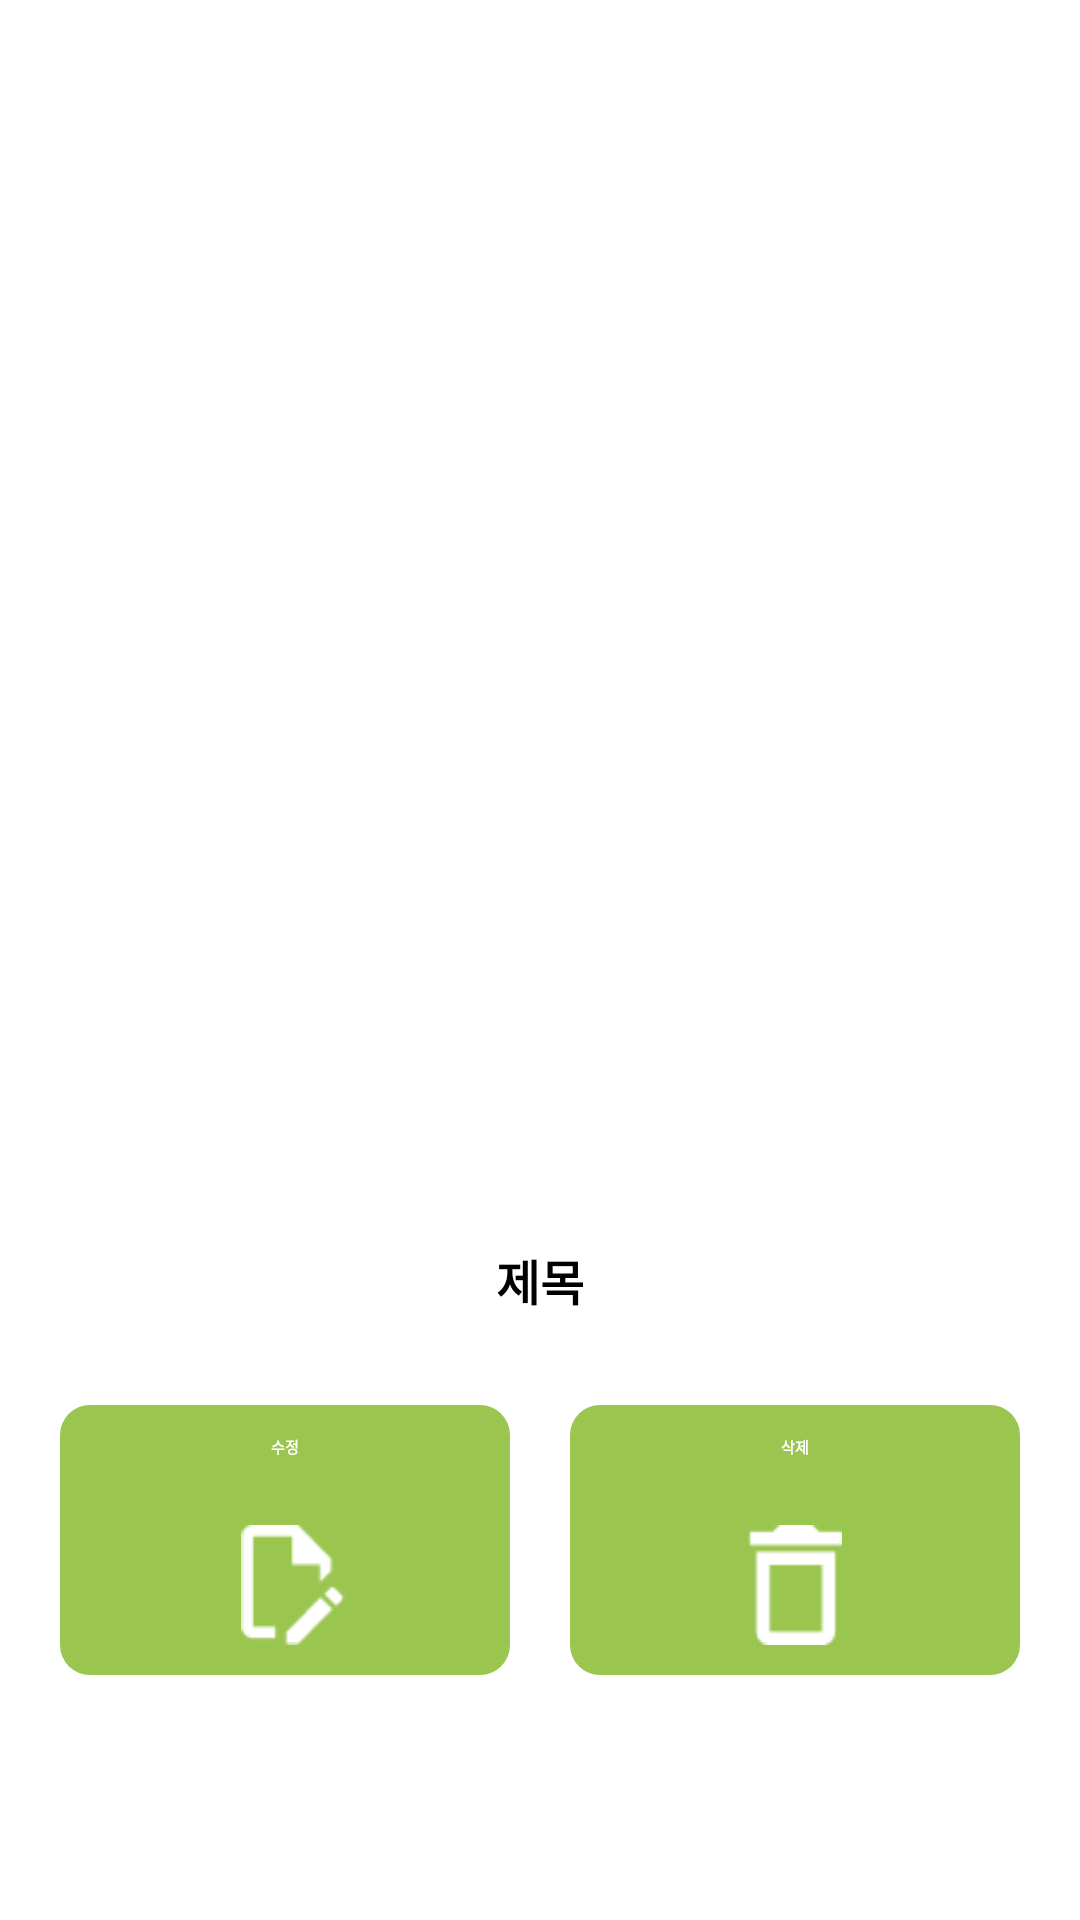

Icon bounding boxes for this 1080w x 1920h phone screenshot, format (x1, y1, x2, y2):
todo folder delete: (749, 1525, 842, 1645)
todo folder update: (241, 1525, 343, 1645)
